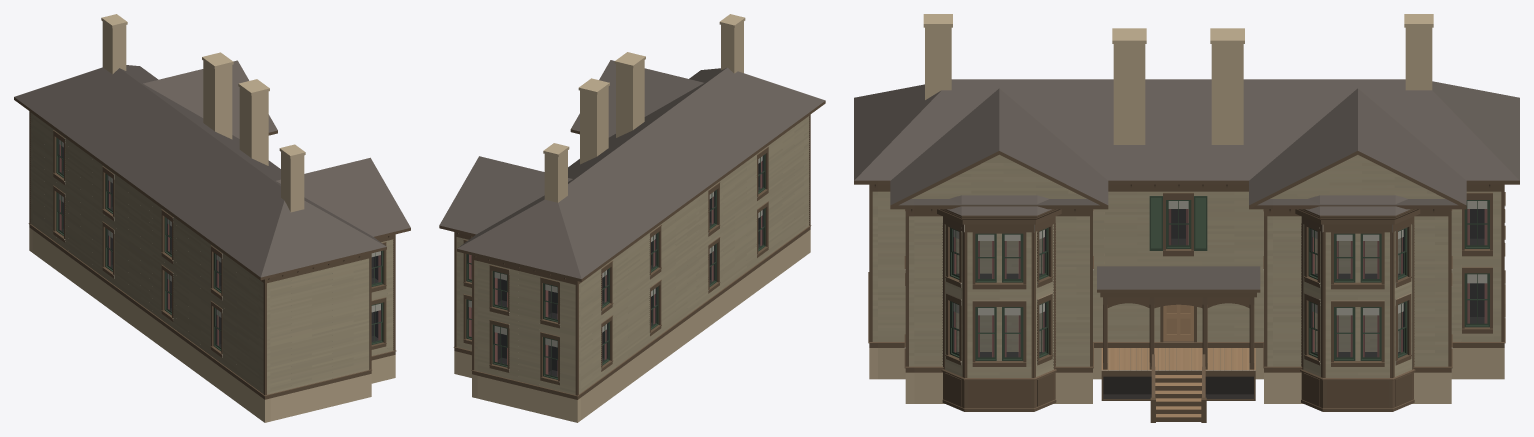
Rendered from dexter_house_1721_prairie_frame_house__as_standing_1904.glb.
3 views of the same model, side by side, from view 1: azimuth 30°, elevation 25°; view 2: azimuth 150°, elevation 25°; view 3: azimuth 270°, elevation 25° (orthographic). The views are drawn at different scales.
Parts seen in each view (by area): view 1: dexter_house_1721_prairie_frame_house__as_standing_1904; view 2: dexter_house_1721_prairie_frame_house__as_standing_1904; view 3: dexter_house_1721_prairie_frame_house__as_standing_1904.
Part boxes in pixels (box(x1,y1,x2,y2)): dexter_house_1721_prairie_frame_house__as_standing_1904: box(14, 14, 410, 422); dexter_house_1721_prairie_frame_house__as_standing_1904: box(439, 14, 825, 422); dexter_house_1721_prairie_frame_house__as_standing_1904: box(854, 14, 1519, 422).
Size of the model in its own units: 10.73 by 13.75 by 25.07.
